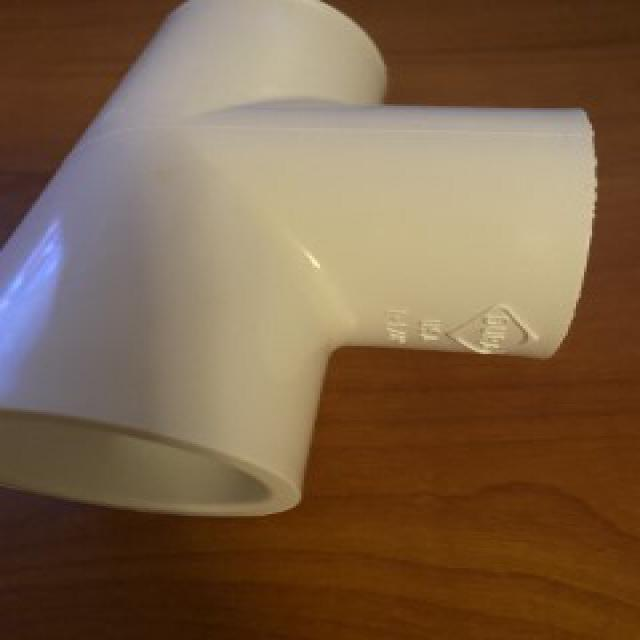T Joint: (0, 0, 598, 520)
